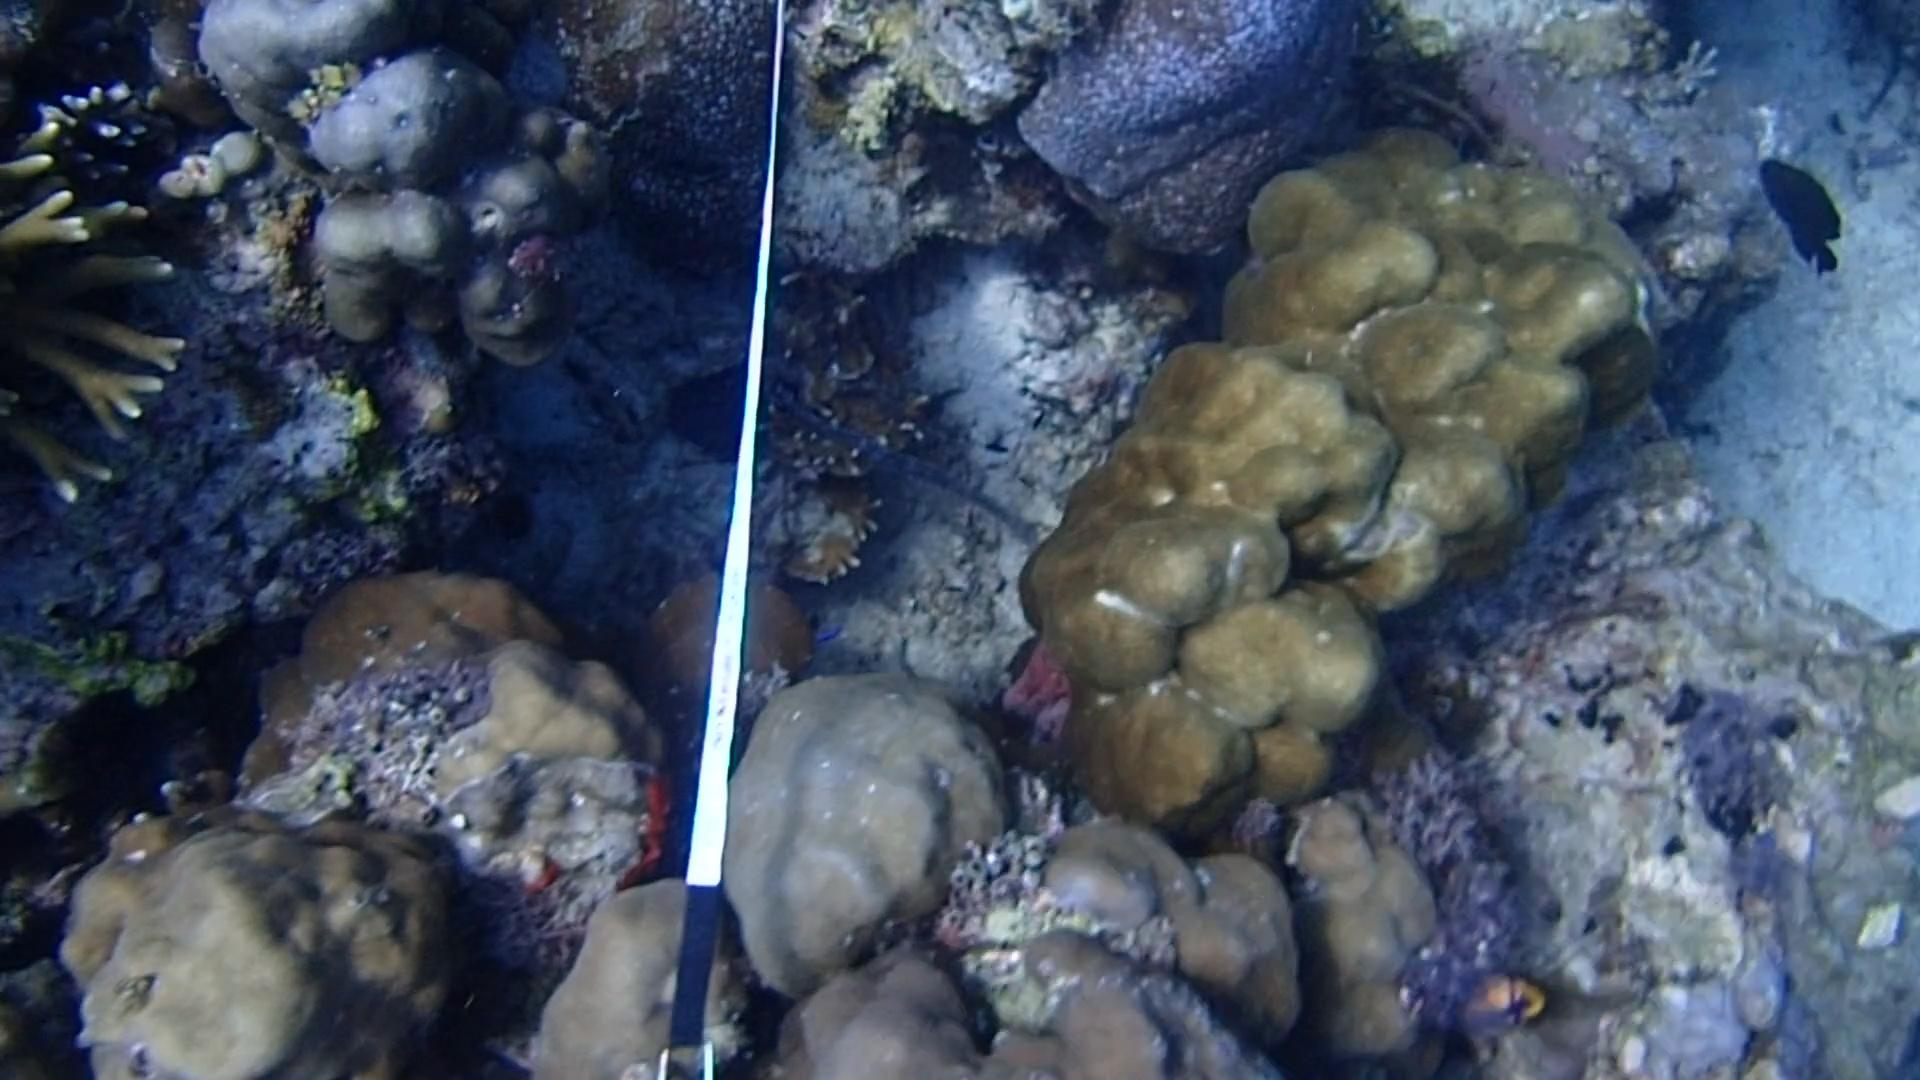Dark Fish: (1754, 149, 1857, 274)
